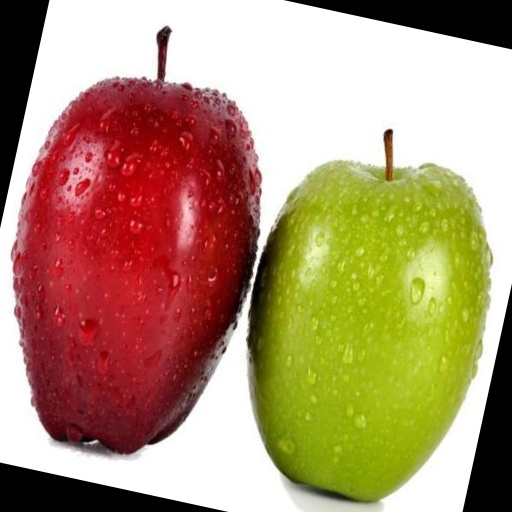fruit: (73, 116, 426, 512), (201, 56, 512, 229), (0, 83, 57, 371)
